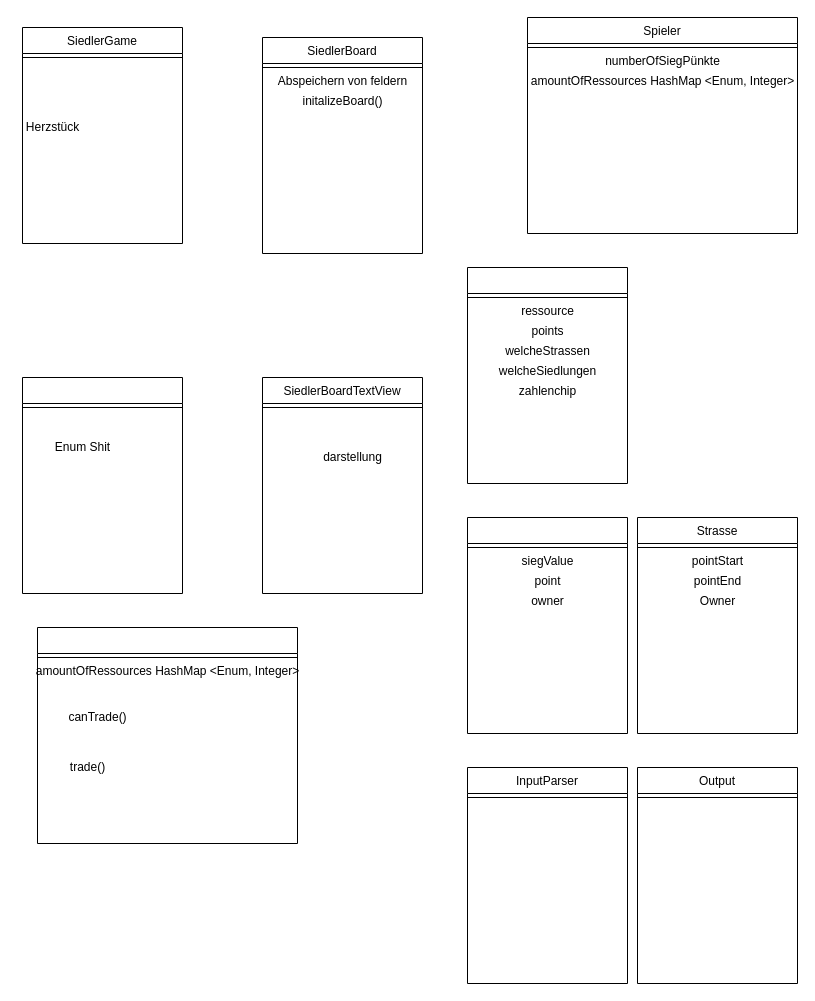
The diagram is 815 pixels wide and 1001 high, and some of its shapes have lost their labels. Each missing label, with the box of its shape:
Bank: (36, 626, 298, 844)
Config: (22, 376, 182, 594)
Feld: (466, 266, 628, 484)
Siedlung: (466, 516, 628, 734)
